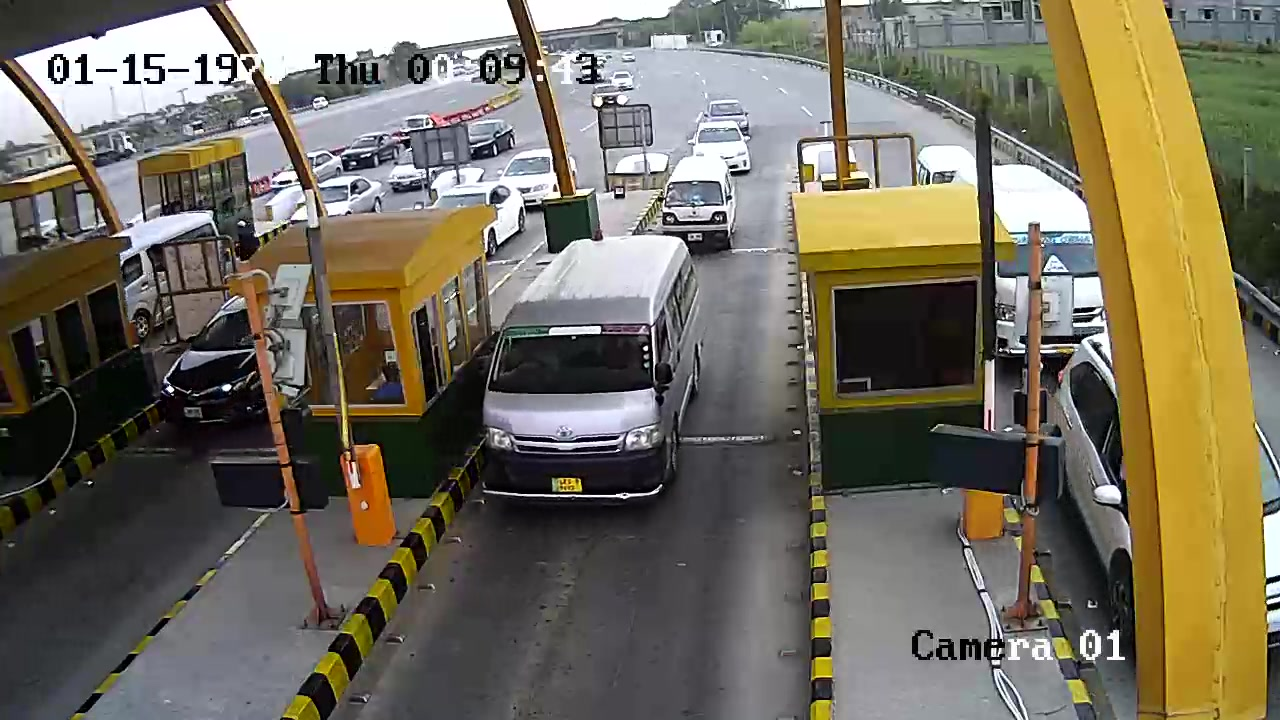F3: (471, 229, 712, 517)
